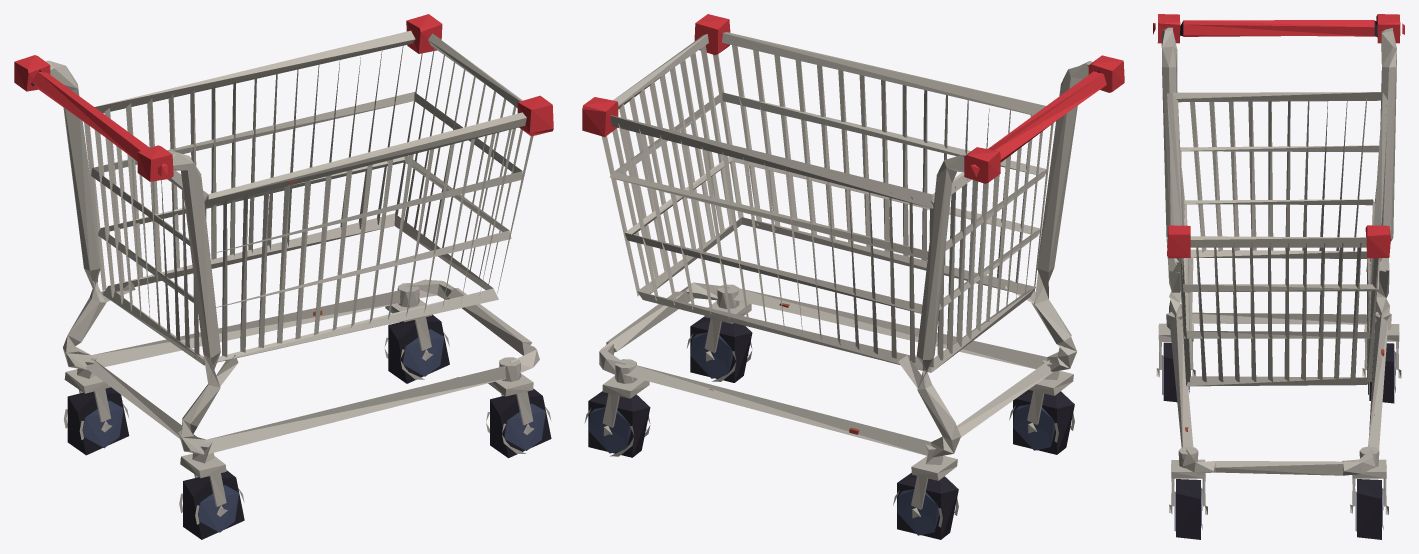
File: prop.shopping-cart.lod1.glb
The picture shows the model from 3 angles, left to right: view 1: azimuth 30°, elevation 25°; view 2: azimuth 150°, elevation 25°; view 3: azimuth 270°, elevation 25°; orthographic projection. The views are drawn at different scales.
Visible parts, largest first — view 1: body, object 4, wheelFL, wheelFR; view 2: body, object 4, wheelFL, wheelFR; view 3: body, object 4, wheelFR, wheelFL.
Part boxes in pixels (x1=…): body: x1=45, y1=30, x2=539, y2=454; object 4: x1=14, y1=14, x2=553, y2=539; wheelFL: x1=384, y1=314, x2=449, y2=383; wheelFR: x1=486, y1=388, x2=551, y2=458; body: x1=599, y1=32, x2=1092, y2=457; object 4: x1=582, y1=14, x2=1124, y2=539; wheelFL: x1=584, y1=391, x2=650, y2=457; wheelFR: x1=686, y1=316, x2=752, y2=382; body: x1=1161, y1=27, x2=1396, y2=475; object 4: x1=1153, y1=14, x2=1404, y2=506; wheelFR: x1=1169, y1=479, x2=1207, y2=539; wheelFL: x1=1350, y1=479, x2=1388, y2=539.
Size of the model in its own units: 1.2 by 1.1 by 0.71.
